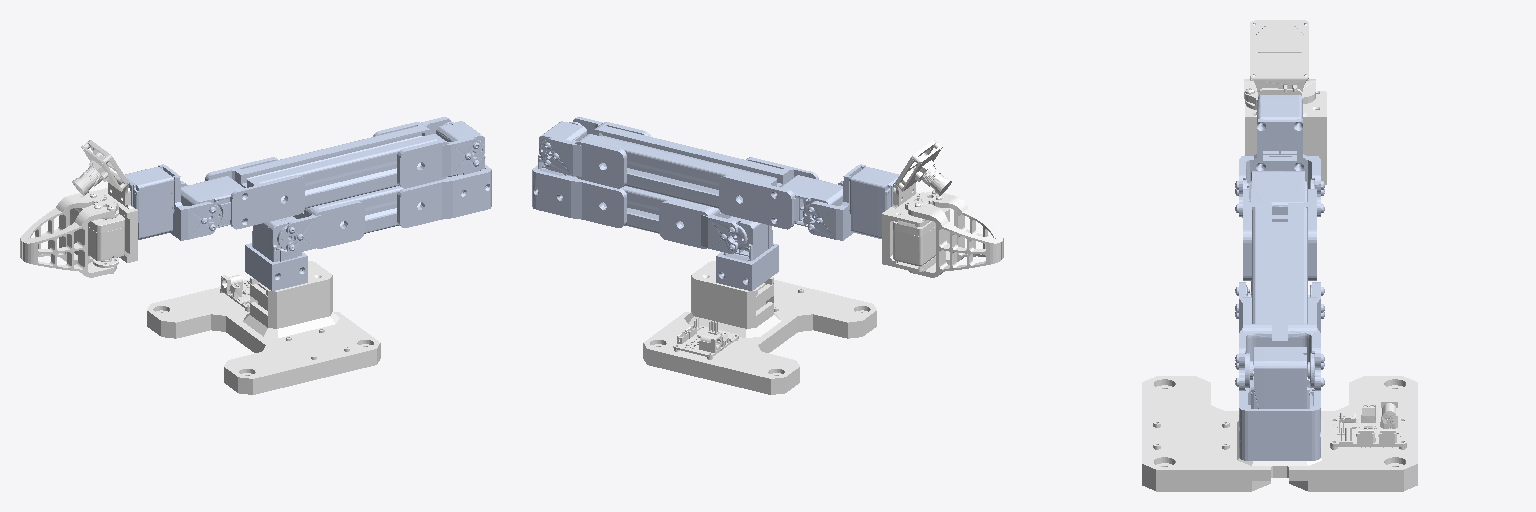
robot.urdf — edu1_studio:
<?xml version="1.0" encoding="utf-8"?>
<!-- This URDF was automatically created by SolidWorks to URDF Exporter! Originally created by Stephen Brawner (brawner@gmail.com) 
     Commit Version: 1.6.0-4-g7f85cfe  Build Version: 1.6.7995.38578
     For more information, please see http://wiki.ros.org/sw_urdf_exporter -->
<!-- EduBotics in-repo copy of the Edu:1 (5dof_assembly_urdf2) SolidWorks export.
     Loaded by the React 3D twin (components/UrdfTwin.jsx, URDF_ASSETS.edu1) and
     parsed by the INDEPENDENT FK oracle in
     physical_ai_server/test/test_edu1_ik.py, so a transcription error in
     workflow/edu1_ik.py's baked constants cannot verify itself.

     FIVE deliberate SEMANTIC differences from the raw CAD export. There are
     three further differences that are not semantic and are listed after them,
     because "and nothing else" was wrong and the line-ending one in particular
     defeats the clean-diff hope this header ends on:

     1. robot name "5dof_assembly_urdf2" -> "edu1_studio" (the CAD name starts
        with a digit and means nothing outside SolidWorks; nothing reads it).
     2. mesh filenames "package://5dof_assembly_urdf2/meshes/X" -> "./meshes/X",
        so the browser fetches them relative to this file with no ROS resolver
        and no CDN (classroom offline requirement) — same shape as
        public/edu6-urdf/edu6.urdf.
     3. Every joint LIMIT that is a right angle is written to the same
        precision the rest of this file already uses: 1.57 -> 1.5708 and
        3.14 -> 3.1416. The exporter wrote the ORIGINS at four decimals
        ("rpy=-1.5708 0 1.5708") and the LIMITS at two, which is a rounding of
        the designer's 90 deg / 180 deg, not a different intent — the edu6
        export writes both at four. It is not cosmetic: joint5 is the jaw-roll
        axis and its window IS the jaw-fold window, so at +-1.57 a required
        roll of exactly +-90 deg (a cube sitting square-on to the arm's own
        bearing, not a corner case) fell 0.0008 rad OUTSIDE both folded
        twins and the grasp was refused with „Arbeitsbereich". 0.0008 rad is
        half a servo tick, so nothing physical changes; only the arithmetic
        stops rejecting its own design intent.
     4. RL_joint and its LF_joint <mimic> have their axes FLIPPED, turning the
        claw band from 0 -> -1.57 into 0 -> +1.57. Zero is the same physical
        pose (jaws closed) either way; this makes OPEN the numerically LARGER
        value, which every shared code path assumes:
          * motion.check_grasp_held reads HELD as an achieved angle ABOVE the
            commanded close,
          * object_catalog validates gripper_close_rad inside a [closed, open)
            band,
          * SimArm classifies a command BELOW its close threshold as a close.
        The driver carries the same flip through its per-joint sign vector, so
        /joint_states, this twin and the servo agree. Kept as a URDF edit rather
        than a rename so a future CAD re-export still diffs cleanly against it.
     5. joint4's LIMIT is WIDENED, not merely re-rounded: -1.57/+1.57 in the
        export becomes -2.0071/+2.0071 (2026-09-10), i.e. +-115 deg instead of
        +-90 deg. This is the one limit in the file that is NOT a rounded right
        angle, so difference 3 above does not describe it and must not be read
        as covering it. The physical range is the OWNER'S STATEMENT about the
        hardware; treat +-115 deg as a CEILING and never widen past it.
        It is declared in FOUR places that must move together (this file,
        workflow/edu1_ik.py, docker/open_manipulator/edu6_arm_node.py,
        tools/edu6_provision.py) and it is what the driver's boot probe
        verifies as the servo EEPROM provisioning fingerprint, so a change
        here without re-running the provisioning tool for this arm
        (`tools/edu6_provision.py`, arm `edu1`) makes it refuse to boot.

     NON-SEMANTIC differences, i.e. the rest of the answer to "what else":

     6. LINE ENDINGS. The raw export is CRLF (509 of them, pure ASCII); this
        copy is LF. That is why an un-normalised `diff` against the export
        reports 1065 changed lines (every line of both files) where the real
        figure is 113. A future CAD re-export will therefore NOT "diff cleanly"
        against this file unless it is normalised first — do that.
     7. This header comment.
     8. Two inline "AXIS FLIPPED" comments inside RL_joint and LF_joint.
     Consequence of 7: this copy carries 21 non-ASCII bytes (German quotes and
     dashes) where the export is pure ASCII. Neither file has a BOM and neither
     ends with a newline. (This line said "12" until 2026-09-10; it was already
     wrong before difference 5 was added, and 21 is the measured value both
     before and after that edit, which was written ASCII-only to keep it so.)

     Verified: 184 elements each, identical tag sequence, identical element
     text, exactly 28 elements with differing attributes — 1 robot name,
     18 mesh filenames, and 9 accounted for by differences 3, 4 and 5.
     NOT RE-VERIFIED on 2026-09-10: the raw CAD export is not in this repo, so
     the counts above still date from 2026-09-05. Difference 5 does not change
     them: joint4's <limit> already differed (as a rounding, under difference
     3) and now differs as a widening. But that is DERIVED from this header's
     own record of the export, not re-measured against it.

     The meshes beside this file are vertex-clustering DECIMATIONS of the CAD
     STLs (15.007 MB -> 3.420 MB, 4.39x). Deviation on the worst mesh
     (base_link, worst on every metric), re-measured 2026-09-05 with exact
     point-to-triangle distances — SAY WHICH METRIC, because the three differ
     by 3x and this header used to quote a fourth number (0.58 mm) that
     reproduces under none of nine variants tried:
       * decimated vertex -> nearest RAW VERTEX          0.479 mm
       * decimated vertex -> nearest raw TRIANGLE        0.473 mm
       * raw vertex -> nearest decimated TRIANGLE        0.675 mm  <- the
         symmetric point-to-surface figure, i.e. the honest worst case
       * raw vertex -> nearest DECIMATED VERTEX          1.579 mm  (a
         cluster-representative distance; NOT a surface error)
     Bounding boxes are preserved to 0.0133 mm and every deviation is INWARD
     (link2 z-max, link3 z-min, right_finger z-min/z-max; the other 6 meshes
     are bit-identical), so a box derived from these meshes is never smaller
     than the raw geometry. They are a VISUAL asset — the collision model is
     workflow/arm_geometry.py::EDU1_LINK_BOXES, which is derived from the
     full-resolution meshes and rounded OUTWARD by 0.1 mm; that rounding
     absorbs the 0.0133 mm with >= 0.089 mm to spare. -->
<robot
  name="edu1_studio">
  <link
    name="base_link">
    <inertial>
      <origin
        xyz="0.0065972 0.00046455 0.020192"
        rpy="0 0 0" />
      <mass
        value="0.45324" />
      <inertia
        ixx="0.00045611"
        ixy="-1.0237E-08"
        ixz="-7.2245E-06"
        iyy="0.00026488"
        iyz="1.1427E-08"
        izz="0.00065821" />
    </inertial>
    <visual>
      <origin
        xyz="0 0 0"
        rpy="0 0 0" />
      <geometry>
        <mesh
          filename="./meshes/base_link.STL" />
      </geometry>
      <material
        name="">
        <color
          rgba="1 1 1 1" />
      </material>
    </visual>
    <collision>
      <origin
        xyz="0 0 0"
        rpy="0 0 0" />
      <geometry>
        <mesh
          filename="./meshes/base_link.STL" />
      </geometry>
    </collision>
  </link>
  <link
    name="link1">
    <inertial>
      <origin
        xyz="0.00142430926928561 3.25480290053193E-06 0.0266430814148018"
        rpy="0 0 0" />
      <mass
        value="0.252637849046075" />
      <inertia
        ixx="5.3693845955723E-05"
        ixy="1.15634872332915E-08"
        ixz="8.8484925785268E-07"
        iyy="6.1470223114311E-05"
        iyz="1.01571588804574E-08"
        izz="3.40673925591872E-05" />
    </inertial>
    <visual>
      <origin
        xyz="0 0 0"
        rpy="0 0 0" />
      <geometry>
        <mesh
          filename="./meshes/link1.STL" />
      </geometry>
      <material
        name="">
        <color
          rgba="0.866666666666667 0.909803921568627 1 1" />
      </material>
    </visual>
    <collision>
      <origin
        xyz="0 0 0"
        rpy="0 0 0" />
      <geometry>
        <mesh
          filename="./meshes/link1.STL" />
      </geometry>
    </collision>
  </link>
  <joint
    name="joint1"
    type="revolute">
    <origin
      xyz="0 0 0.0492"
      rpy="0 0 -1.5708" />
    <parent
      link="base_link" />
    <child
      link="link1" />
    <axis
      xyz="0 0 -1" />
    <limit
      lower="-1.5708"
      upper="1.5708"
      effort="1.91"
      velocity="4.72" />
  </joint>
  <link
    name="link2">
    <inertial>
      <origin
        xyz="0.128108080126568 -0.0115134450598436 -0.000203428923559734"
        rpy="0 0 0" />
      <mass
        value="0.388456094388029" />
      <inertia
        ixx="9.43621325451633E-05"
        ixy="-1.07780984365286E-06"
        ixz="3.53950745758829E-07"
        iyy="0.000144675146577539"
        iyz="7.91549641506225E-07"
        izz="0.00015406164353272" />
    </inertial>
    <visual>
      <origin
        xyz="0 0 0"
        rpy="0 0 0" />
      <geometry>
        <mesh
          filename="./meshes/link2.STL" />
      </geometry>
      <material
        name="">
        <color
          rgba="0.866666666666667 0.909803921568627 1 1" />
      </material>
    </visual>
    <collision>
      <origin
        xyz="0 0 0"
        rpy="0 0 0" />
      <geometry>
        <mesh
          filename="./meshes/link2.STL" />
      </geometry>
    </collision>
  </link>
  <joint
    name="joint2"
    type="revolute">
    <origin
      xyz="0 0 0.04075"
      rpy="-1.5708 0 1.5708" />
    <parent
      link="link1" />
    <child
      link="link2" />
    <axis
      xyz="0 0 -1" />
    <limit
      lower="0"
      upper="3.1416"
      effort="4.9"
      velocity="7.87" />
  </joint>
  <link
    name="link3">
    <inertial>
      <origin
        xyz="1.91680735539546E-06 0.163370228162452 0.00086363600842243"
        rpy="0 0 0" />
      <mass
        value="0.409101114406431" />
      <inertia
        ixx="0.00031921092527826"
        ixy="1.01571493526515E-08"
        ixz="1.34023747823371E-08"
        iyy="6.66357072929691E-05"
        iyz="1.07387375576627E-06"
        izz="0.000303228216774095" />
    </inertial>
    <visual>
      <origin
        xyz="0 0 0"
        rpy="0 0 0" />
      <geometry>
        <mesh
          filename="./meshes/link3.STL" />
      </geometry>
      <material
        name="">
        <color
          rgba="0.866666666666667 0.909803921568627 1 1" />
      </material>
    </visual>
    <collision>
      <origin
        xyz="0 0 0"
        rpy="0 0 0" />
      <geometry>
        <mesh
          filename="./meshes/link3.STL" />
      </geometry>
    </collision>
  </link>
  <joint
    name="joint3"
    type="revolute">
    <origin
      xyz="0.1555 -0.032 0"
      rpy="3.1416 0 -1.5708" />
    <parent
      link="link2" />
    <child
      link="link3" />
    <axis
      xyz="0 0 -1" />
    <limit
      lower="0"
      upper="3.1416"
      effort="4.9"
      velocity="7.87" />
  </joint>
  <link
    name="link4">
    <inertial>
      <origin
        xyz="0.0123255960436137 0.0405887356992345 -1.26289878600305E-05"
        rpy="0 0 0" />
      <mass
        value="0.253583085402849" />
      <inertia
        ixx="3.38535209378082E-05"
        ixy="-1.00560041377723E-06"
        ixz="-2.72927783971259E-08"
        iyy="5.59497901844944E-05"
        iyz="-1.11160218023545E-07"
        izz="6.09372386595058E-05" />
    </inertial>
    <visual>
      <origin
        xyz="0 0 0"
        rpy="0 0 0" />
      <geometry>
        <mesh
          filename="./meshes/link4.STL" />
      </geometry>
      <material
        name="">
        <color
          rgba="0.866666666666667 0.909803921568627 1 1" />
      </material>
    </visual>
    <collision>
      <origin
        xyz="0 0 0"
        rpy="0 0 0" />
      <geometry>
        <mesh
          filename="./meshes/link4.STL" />
      </geometry>
    </collision>
  </link>
  <joint
    name="joint4"
    type="revolute">
    <origin
      xyz="0 0.222499999999999 0"
      rpy="0 0 0" />
    <parent
      link="link3" />
    <child
      link="link4" />
    <axis
      xyz="0 0 -1" />
    <limit
      lower="-2.0071"
      upper="2.0071"
      effort="1.91"
      velocity="4.72" />
  </joint>
  <link
    name="link5">
    <inertial>
      <origin
        xyz="1.85518267414864E-12 -1.00919272938427E-13 -0.00160250191702316"
        rpy="0 0 0" />
      <mass
        value="0.00204505697080932" />
      <inertia
        ixx="4.67240251871496E-08"
        ixy="2.88395125623845E-19"
        ixz="5.96602318417442E-18"
        iyy="4.67240251853844E-08"
        iyz="-3.73372144122675E-19"
        izz="8.85697744469466E-08" />
    </inertial>
    <visual>
      <origin
        xyz="0 0 0"
        rpy="0 0 0" />
      <geometry>
        <mesh
          filename="./meshes/link5.STL" />
      </geometry>
      <material
        name="">
        <color
          rgba="0.866666666666667 0.909803921568627 1 1" />
      </material>
    </visual>
    <collision>
      <origin
        xyz="0 0 0"
        rpy="0 0 0" />
      <geometry>
        <mesh
          filename="./meshes/link5.STL" />
      </geometry>
    </collision>
  </link>
  <joint
    name="joint5"
    type="revolute">
    <origin
      xyz="0 0.0609499999999672 0"
      rpy="-1.5707963267949 0 0" />
    <parent
      link="link4" />
    <child
      link="link5" />
    <axis
      xyz="0 0 -1" />
    <limit
      lower="-1.5708"
      upper="1.5708"
      effort="1.91"
      velocity="4.72" />
  </joint>
  <link
    name="end_effector">
    <inertial>
      <origin
        xyz="0.00184770542311241 0.00368714904057166 0.0202859621596632"
        rpy="0 0 0" />
      <mass
        value="0.263495955462809" />
      <inertia
        ixx="5.65732039386392E-05"
        ixy="-6.51744510066231E-07"
        ixz="-4.56169377746318E-08"
        iyy="3.64790391198839E-05"
        iyz="-4.84477391924387E-07"
        izz="6.65216935692438E-05" />
    </inertial>
    <visual>
      <origin
        xyz="0 0 0"
        rpy="0 0 0" />
      <geometry>
        <mesh
          filename="./meshes/end_effector.STL" />
      </geometry>
      <material
        name="">
        <color
          rgba="1 1 1 1" />
      </material>
    </visual>
    <collision>
      <origin
        xyz="0 0 0"
        rpy="0 0 0" />
      <geometry>
        <mesh
          filename="./meshes/end_effector.STL" />
      </geometry>
    </collision>
  </link>
  <joint
    name="end_joint"
    type="fixed">
    <origin
      xyz="0 0 0"
      rpy="0 0 0" />
    <parent
      link="link5" />
    <child
      link="end_effector" />
    <axis
      xyz="0 0 0" />
  </joint>
  <link
    name="right_finger">
    <inertial>
      <origin
        xyz="0.00120941049347534 -0.0157453546915447 -0.0202369802381945"
        rpy="0 0 0" />
      <mass
        value="0.0116231522327918" />
      <inertia
        ixx="5.37517873028709E-06"
        ixy="-2.06035480311998E-07"
        ixz="1.80835131713326E-08"
        iyy="2.54401930752065E-06"
        iyz="-6.56348521459518E-08"
        izz="3.35112468874519E-06" />
    </inertial>
    <visual>
      <origin
        xyz="0 0 0"
        rpy="0 0 0" />
      <geometry>
        <mesh
          filename="./meshes/right_finger.STL" />
      </geometry>
      <material
        name="">
        <color
          rgba="1 1 1 1" />
      </material>
    </visual>
    <collision>
      <origin
        xyz="0 0 0"
        rpy="0 0 0" />
      <geometry>
        <mesh
          filename="./meshes/right_finger.STL" />
      </geometry>
    </collision>
  </link>
  <joint
    name="RL_joint"
    type="revolute">
    <origin
      xyz="0.0202 -0.00925 0.02125"
      rpy="-1.5708 0 -1.5708" />
    <parent
      link="end_effector" />
    <child
      link="right_finger" />
    <!-- AXIS FLIPPED vs the CAD export (was "0 0 -1", limits -1.57..0). -->
    <axis
      xyz="0 0 1" />
    <limit
      lower="0"
      upper="1.5708"
      effort="1.91"
      velocity="4.72" />
  </joint>
  <link
    name="left_finger">
    <inertial>
      <origin
        xyz="-0.00170205180125527 -0.0235313626310218 -0.0200395864040611"
        rpy="0 0 0" />
      <mass
        value="0.00782108816549615" />
      <inertia
        ixx="5.28614829995171E-06"
        ixy="2.02379819056173E-07"
        ixz="-1.42160103549834E-08"
        iyy="2.47091121868132E-06"
        iyz="-5.77415071366321E-08"
        izz="3.17759842532108E-06" />
    </inertial>
    <visual>
      <origin
        xyz="0 0 0"
        rpy="0 0 0" />
      <geometry>
        <mesh
          filename="./meshes/left_finger.STL" />
      </geometry>
      <material
        name="">
        <color
          rgba="1 1 1 1" />
      </material>
    </visual>
    <collision>
      <origin
        xyz="0 0 0"
        rpy="0 0 0" />
      <geometry>
        <mesh
          filename="./meshes/left_finger.STL" />
      </geometry>
    </collision>
  </link>
  <joint
    name="LF_joint"
    type="revolute">
    <origin
      xyz="0.0195 0.00925 0.02125"
      rpy="-1.5708 0 -1.5708" />
    <parent
      link="end_effector" />
    <child
      link="left_finger" />
    <!-- AXIS FLIPPED with RL_joint (was "0 0 1"): both signs invert together,
         so the fingers still counter-rotate and the <mimic> is unchanged. -->
    <axis
      xyz="0 0 -1" />
    <limit
      lower="0"
      upper="1.5708"
      effort="1.91"
      velocity="4.72" />
    <mimic
      joint="RL_joint"
      multiplier="1"
      offset="0" />
  </joint>
</robot>

--- Facts derived from the render (not from the file) ---
The picture shows the robot from 3 angles, left to right: view 1: azimuth 30°, elevation 25°; view 2: azimuth 150°, elevation 25°; view 3: azimuth 270°, elevation 25°; orthographic projection.
Model edu1_studio with 9 links and 8 joints (7 revolute, 1 fixed), rooted at base_link, posed all joints at 0.
Visible links, largest first — view 1: base_link, link3, link2, link4, end_effector, link1, right_finger, left_finger; view 2: base_link, link3, link2, end_effector, link4, link1, left_finger, right_finger; view 3: base_link, link3, link2, end_effector, link4.
Boxes of the visible links, x1,y1,x2,y2 form: base_link: (147, 261, 380, 394); link3: (181, 117, 484, 229); link2: (277, 121, 491, 253); link4: (124, 164, 221, 240); end_effector: (70, 140, 137, 262); link1: (245, 216, 307, 290); right_finger: (23, 200, 118, 277); left_finger: (20, 191, 106, 264); base_link: (643, 261, 876, 394); link3: (539, 117, 842, 229); link2: (532, 121, 747, 253); end_effector: (882, 140, 951, 272); link4: (803, 164, 899, 240); link1: (716, 216, 778, 290); left_finger: (905, 200, 1000, 277); right_finger: (917, 190, 1003, 264); base_link: (1142, 376, 1417, 491); link3: (1235, 171, 1324, 390); link2: (1235, 282, 1324, 460); end_effector: (1245, 20, 1326, 184); link4: (1235, 95, 1324, 217).
Bounding box of the posed robot: 0.385 × 0.15 × 0.1897 m (x, y, z).
9 mesh visuals loaded from 9 distinct referenced files (9 binary STL).
